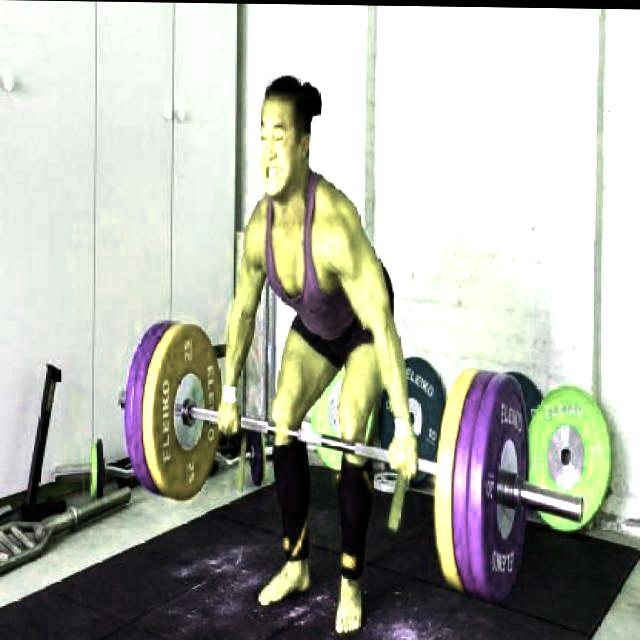barbell: (472, 367, 600, 615)
